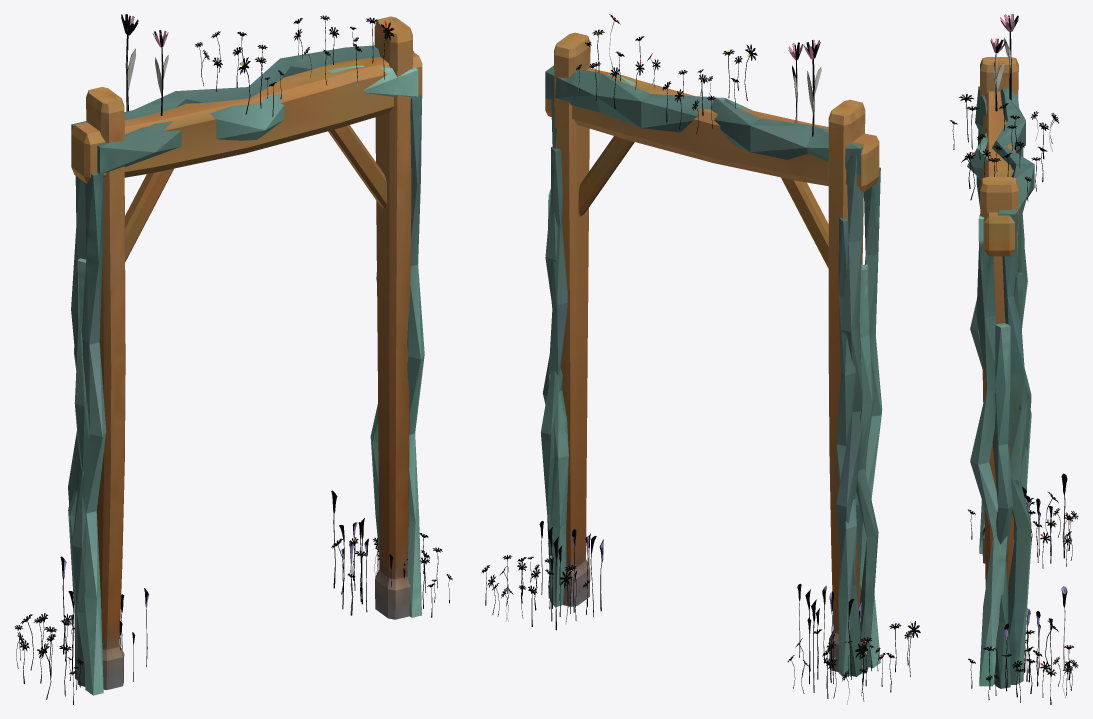
Rendered from arch_vines.glb.
3 views of the same model, side by side, from view 1: azimuth 30°, elevation 25°; view 2: azimuth 150°, elevation 25°; view 3: azimuth 270°, elevation 25° (orthographic). The views are drawn at different scales.
Parts seen in each view (by area): view 1: arch_vines; view 2: arch_vines; view 3: arch_vines.
Boxes of the visible parts, x1=… form: arch_vines: x1=14, y1=14, x2=452, y2=704; arch_vines: x1=481, y1=14, x2=920, y2=704; arch_vines: x1=950, y1=14, x2=1078, y2=704.
Bounding box in the file's own units: 1.45 × 2.14 × 0.45.
1 material, 1 textured.
